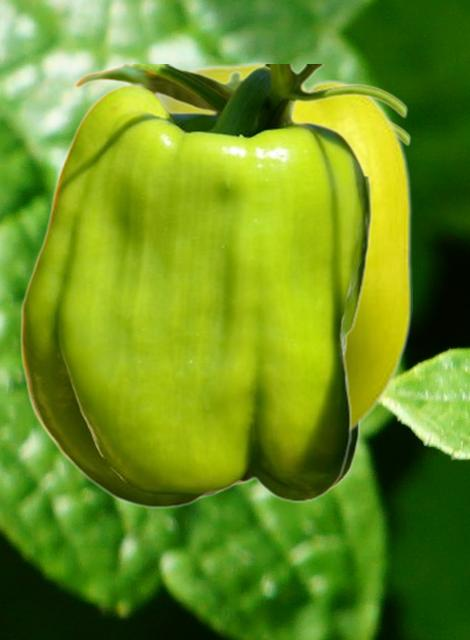bell_pepper: (19, 64, 407, 508), (162, 60, 411, 431)
